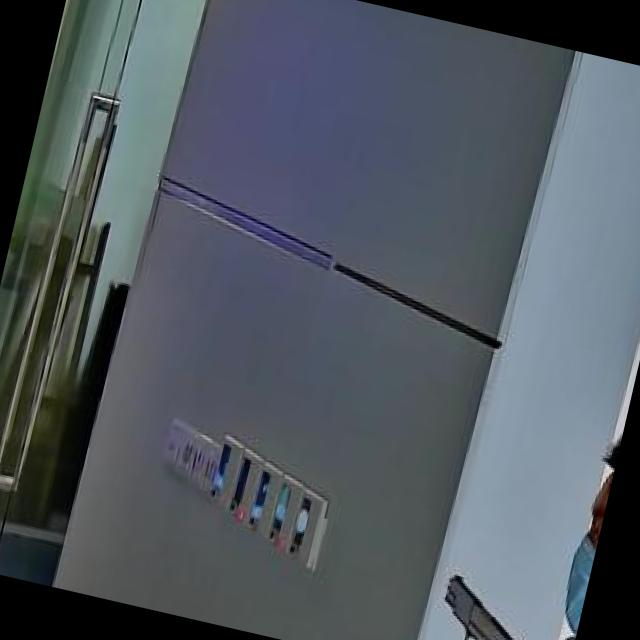Guns: (406, 539, 576, 640)
